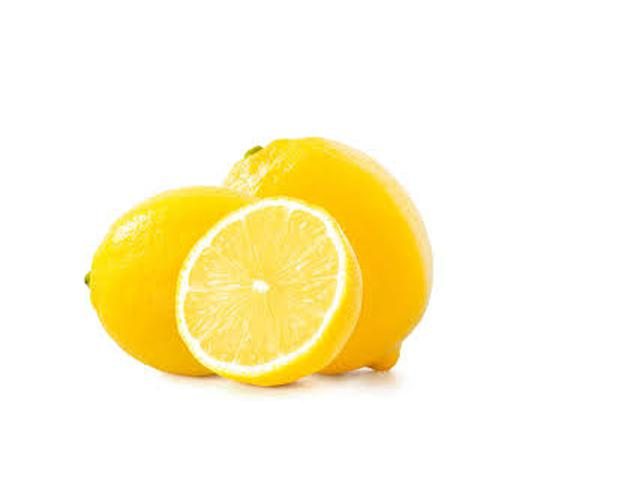lemon: (87, 180, 306, 382)
